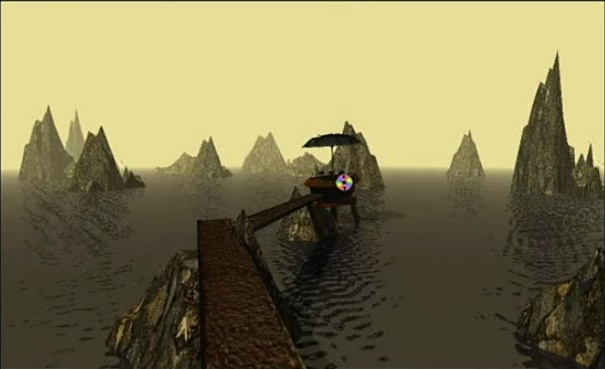Waiting: (333, 171, 356, 192)
